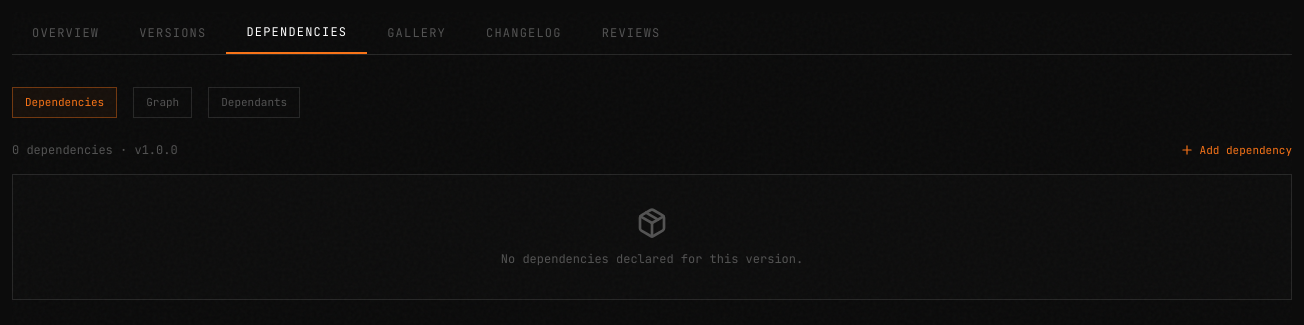
Scenario: PluginContent › switches to dependants view
The width and height of the screenshot is (1304, 325).
Click the button "Dependants" at (254, 102), box top-left (208, 87), bottom-right (300, 118)
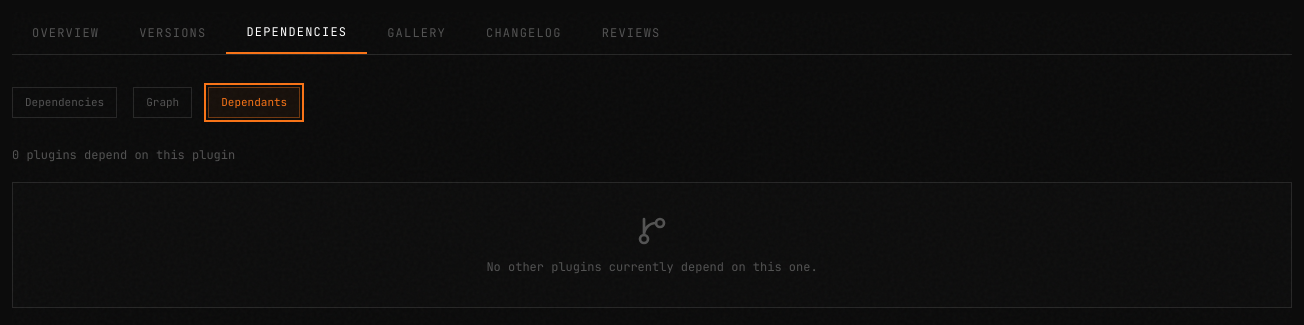
Expected: the text "0 plugins depend on this plugin" is shown, top-left (12, 146), bottom-right (235, 162)
